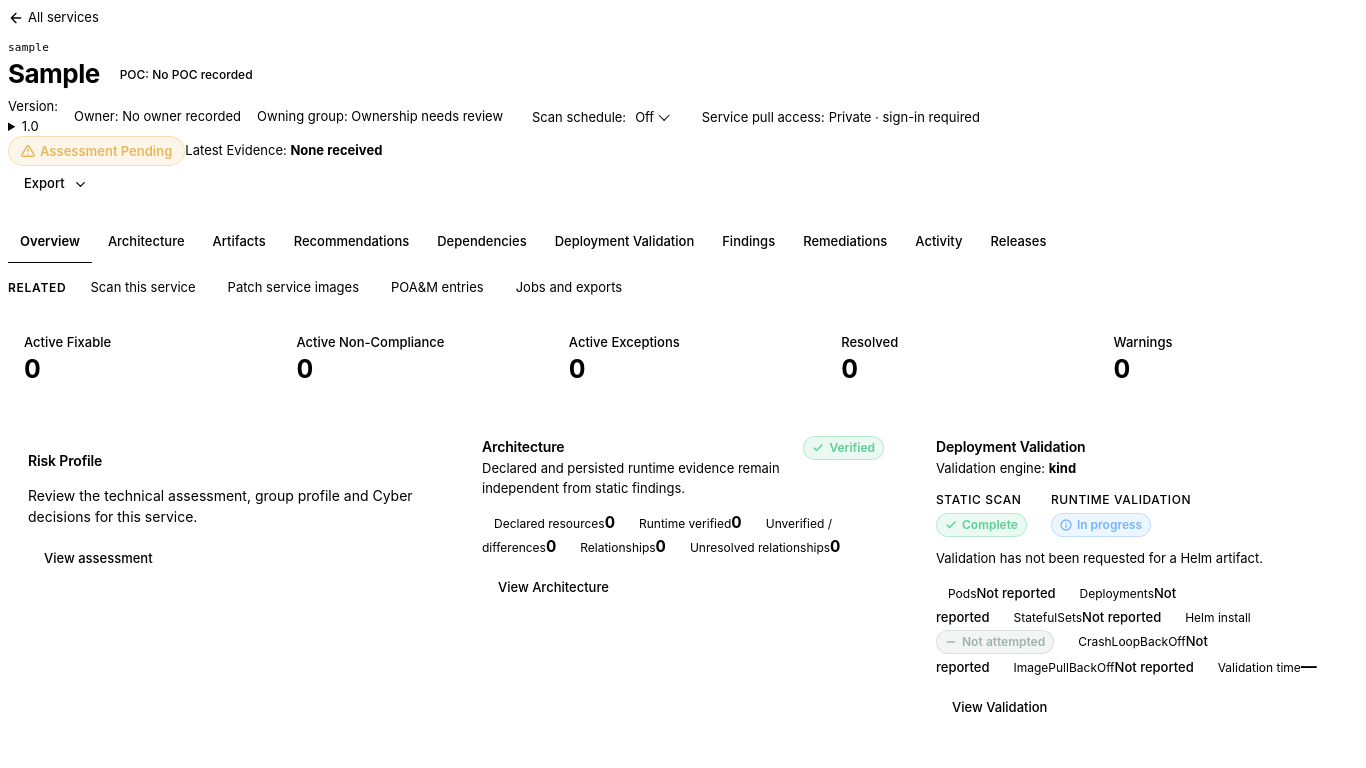
Test: cancels an edited schedule without changing its saved summary or posting
The width and height of the screenshot is (1366, 768).
Expected: the field labelled "Frequency" is not shown
Click the button with aria-label "Scan schedule: Off": (652, 117) x1=630 y1=105 x2=673 y2=129
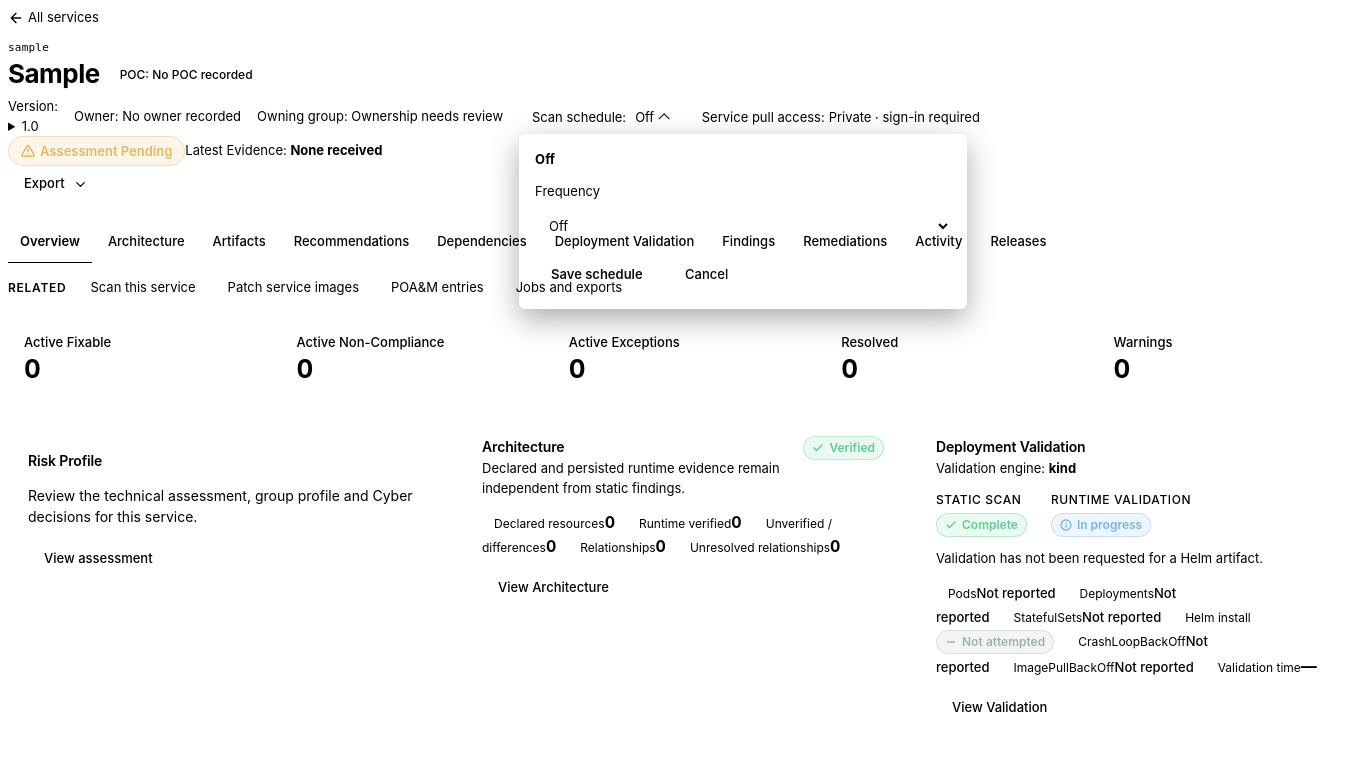
Select "Weekly" in the dropdown labelled "Frequency": (743, 226) x1=535 y1=208 x2=951 y2=244
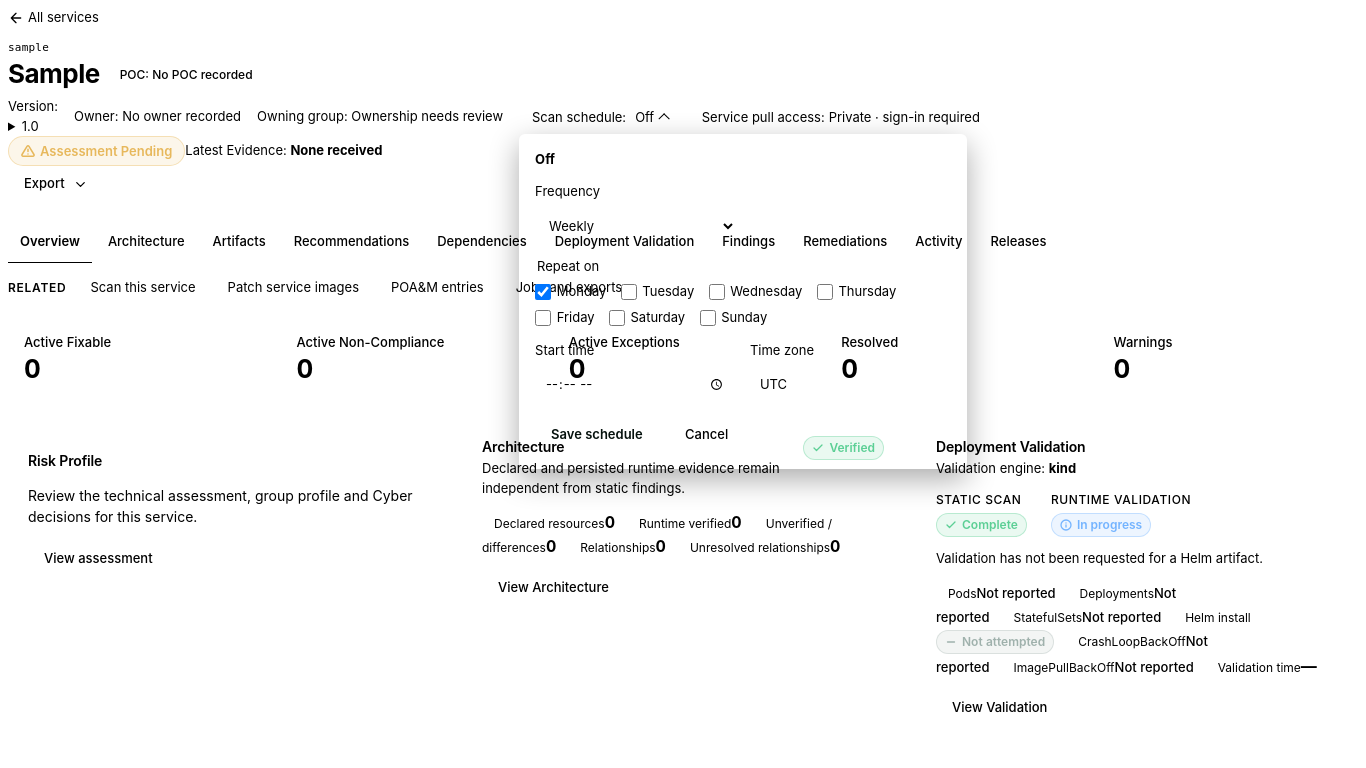
Click the button "Cancel": (707, 435) x1=669 y1=417 x2=744 y2=453
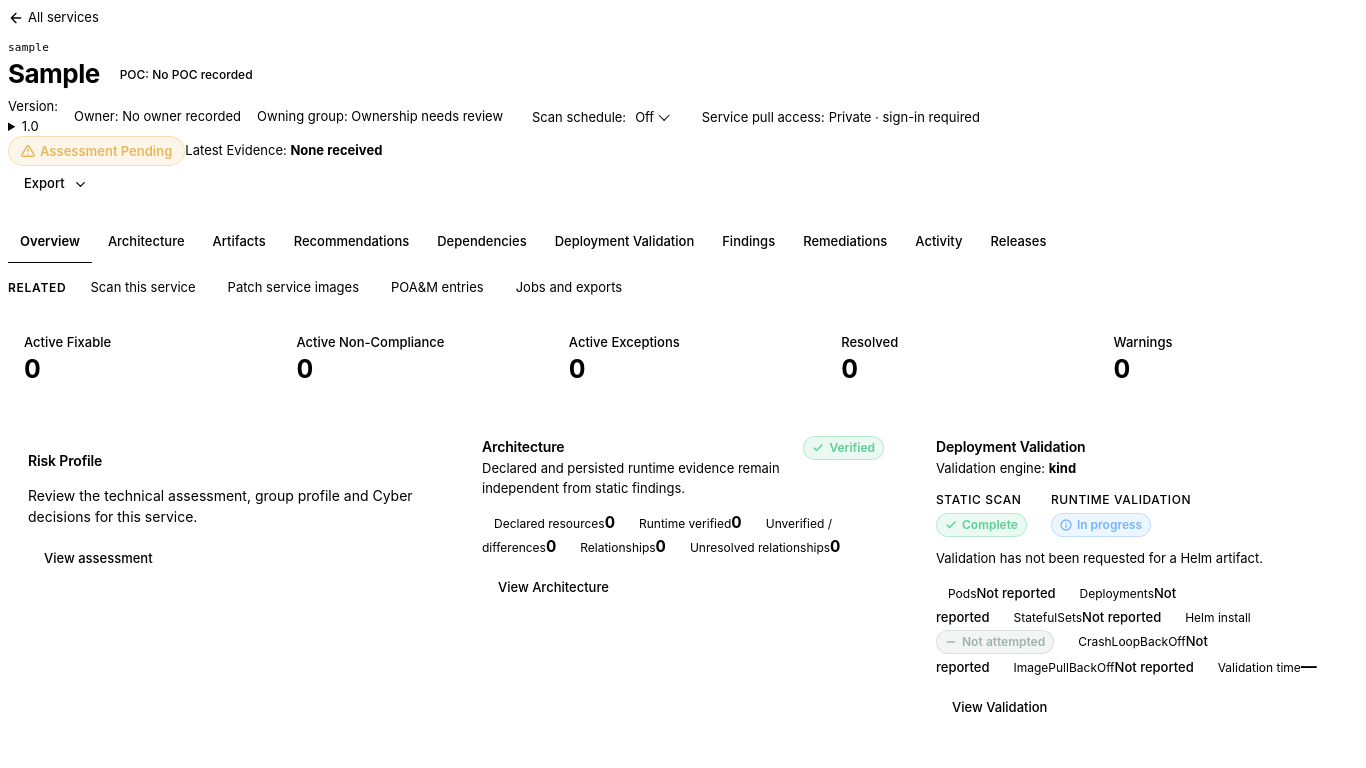
Expected: the label labelled "Frequency" is gone
Click the button with aria-label "Scan schedule: Off": (652, 117) x1=630 y1=105 x2=673 y2=129
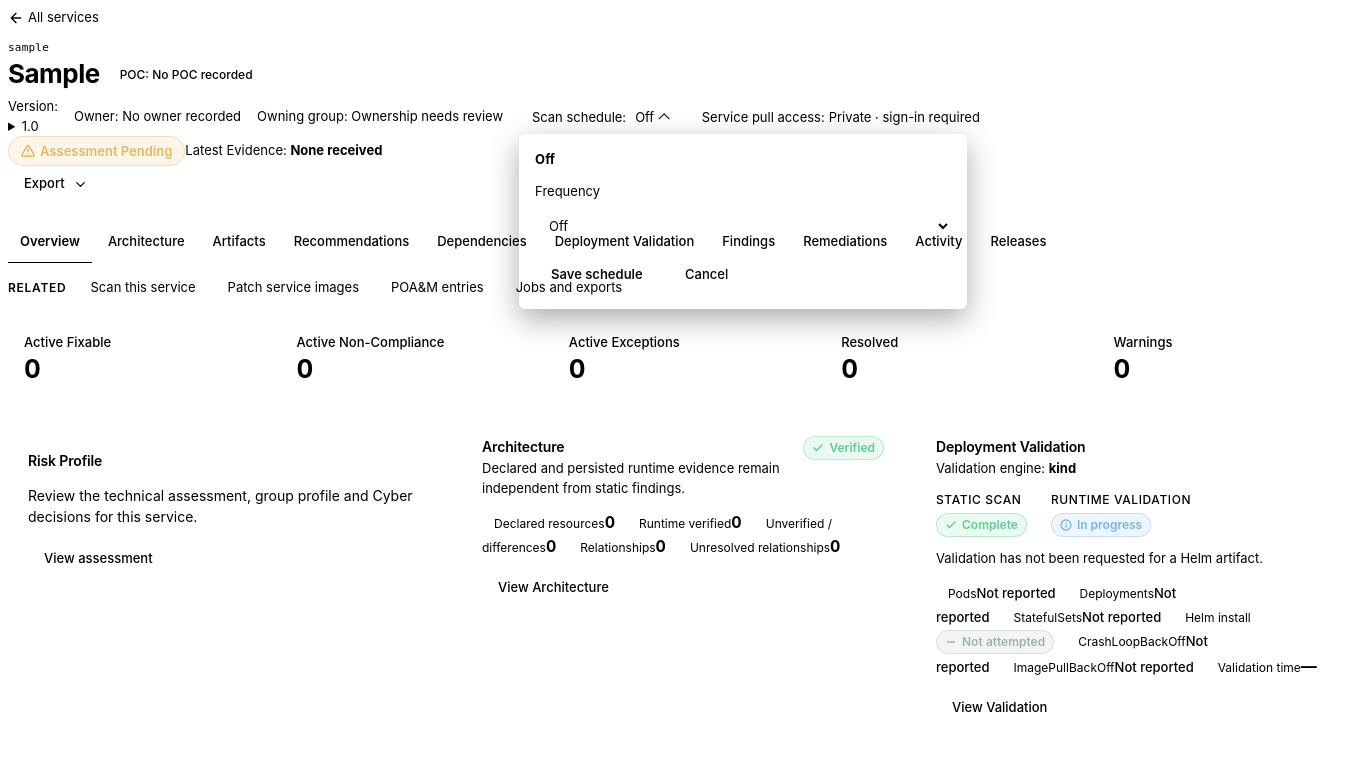
Expected: the dropdown labelled "Frequency" shows "Off", x1=535 y1=208 x2=951 y2=244
